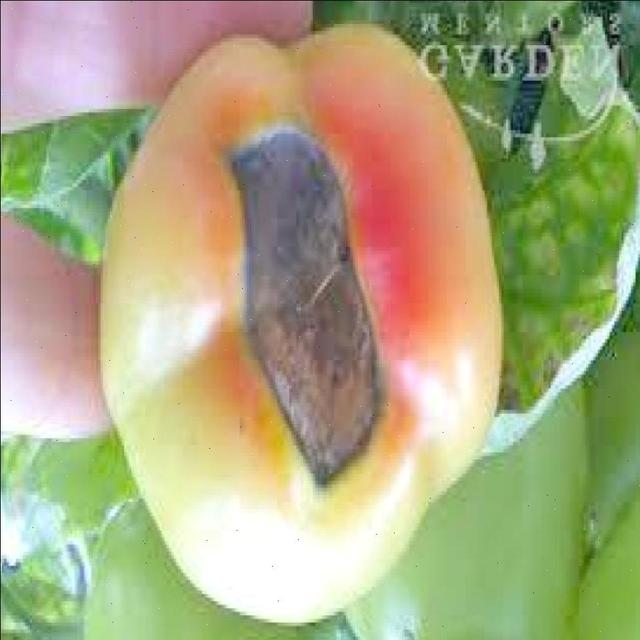Blossom End Rot Fruit: (148, 76, 253, 333)
